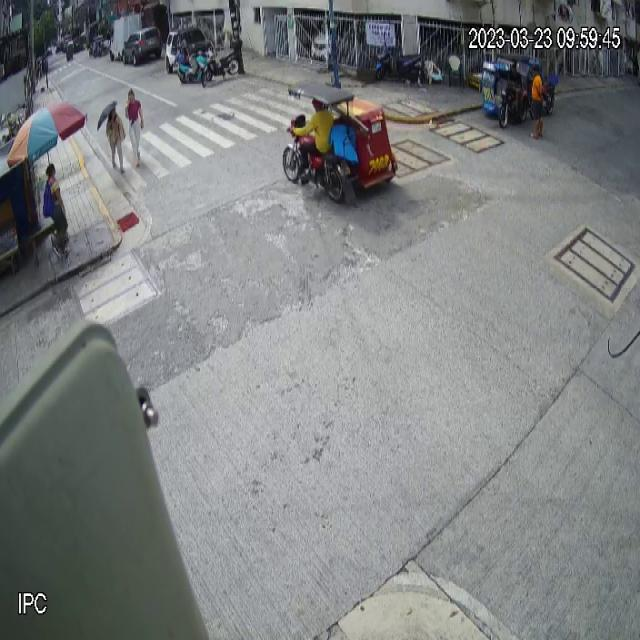Tricycle: (281, 76, 398, 204), (481, 51, 530, 128)
